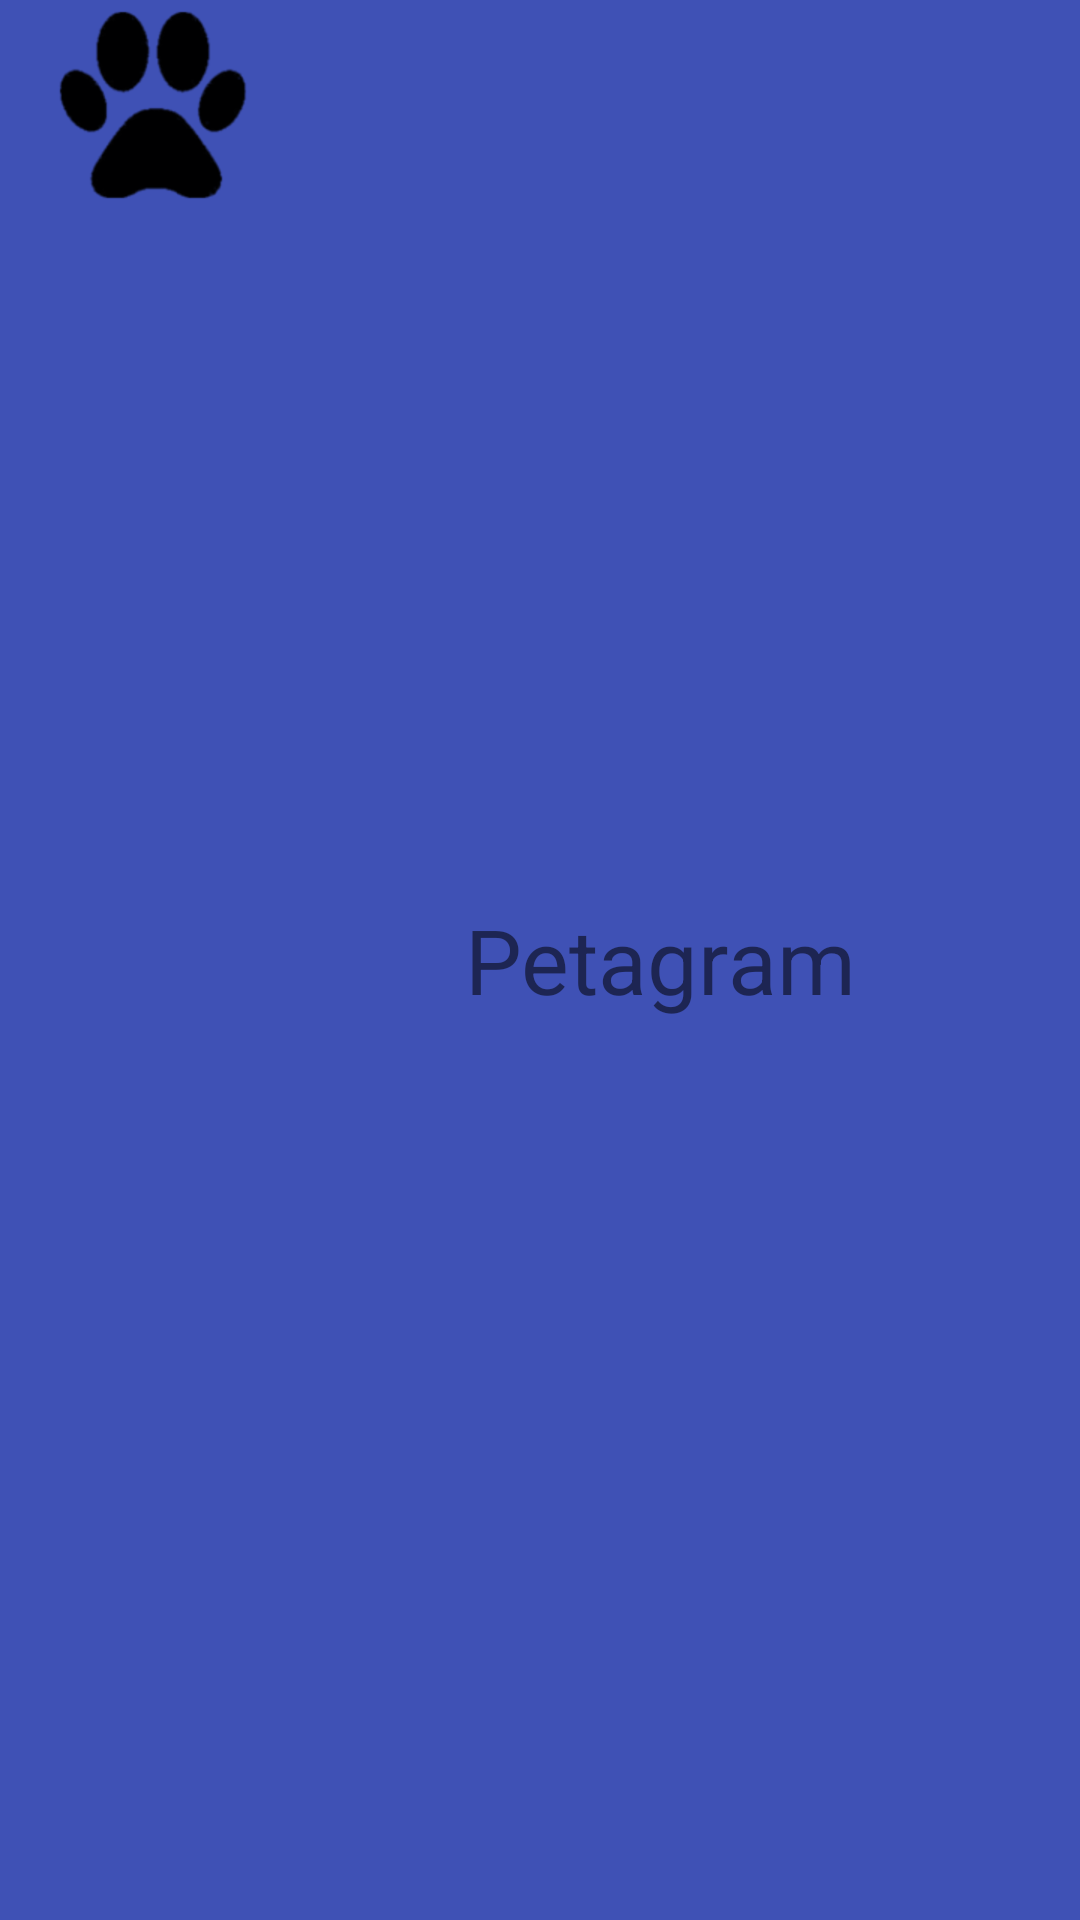

Screen size 1080x1920. Icon name, then its center in pixels as (x=x, y=y):
patita: (x=152, y=105)
